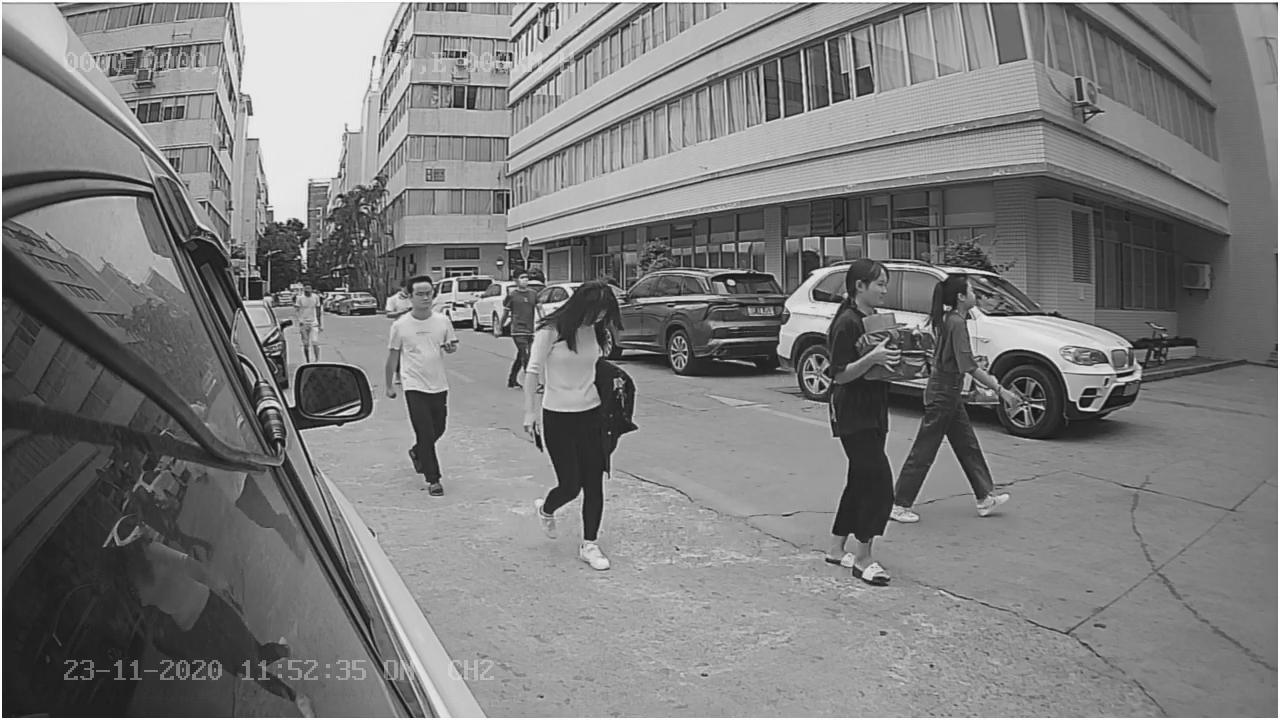person: (526, 279, 617, 566), (383, 268, 454, 483)
